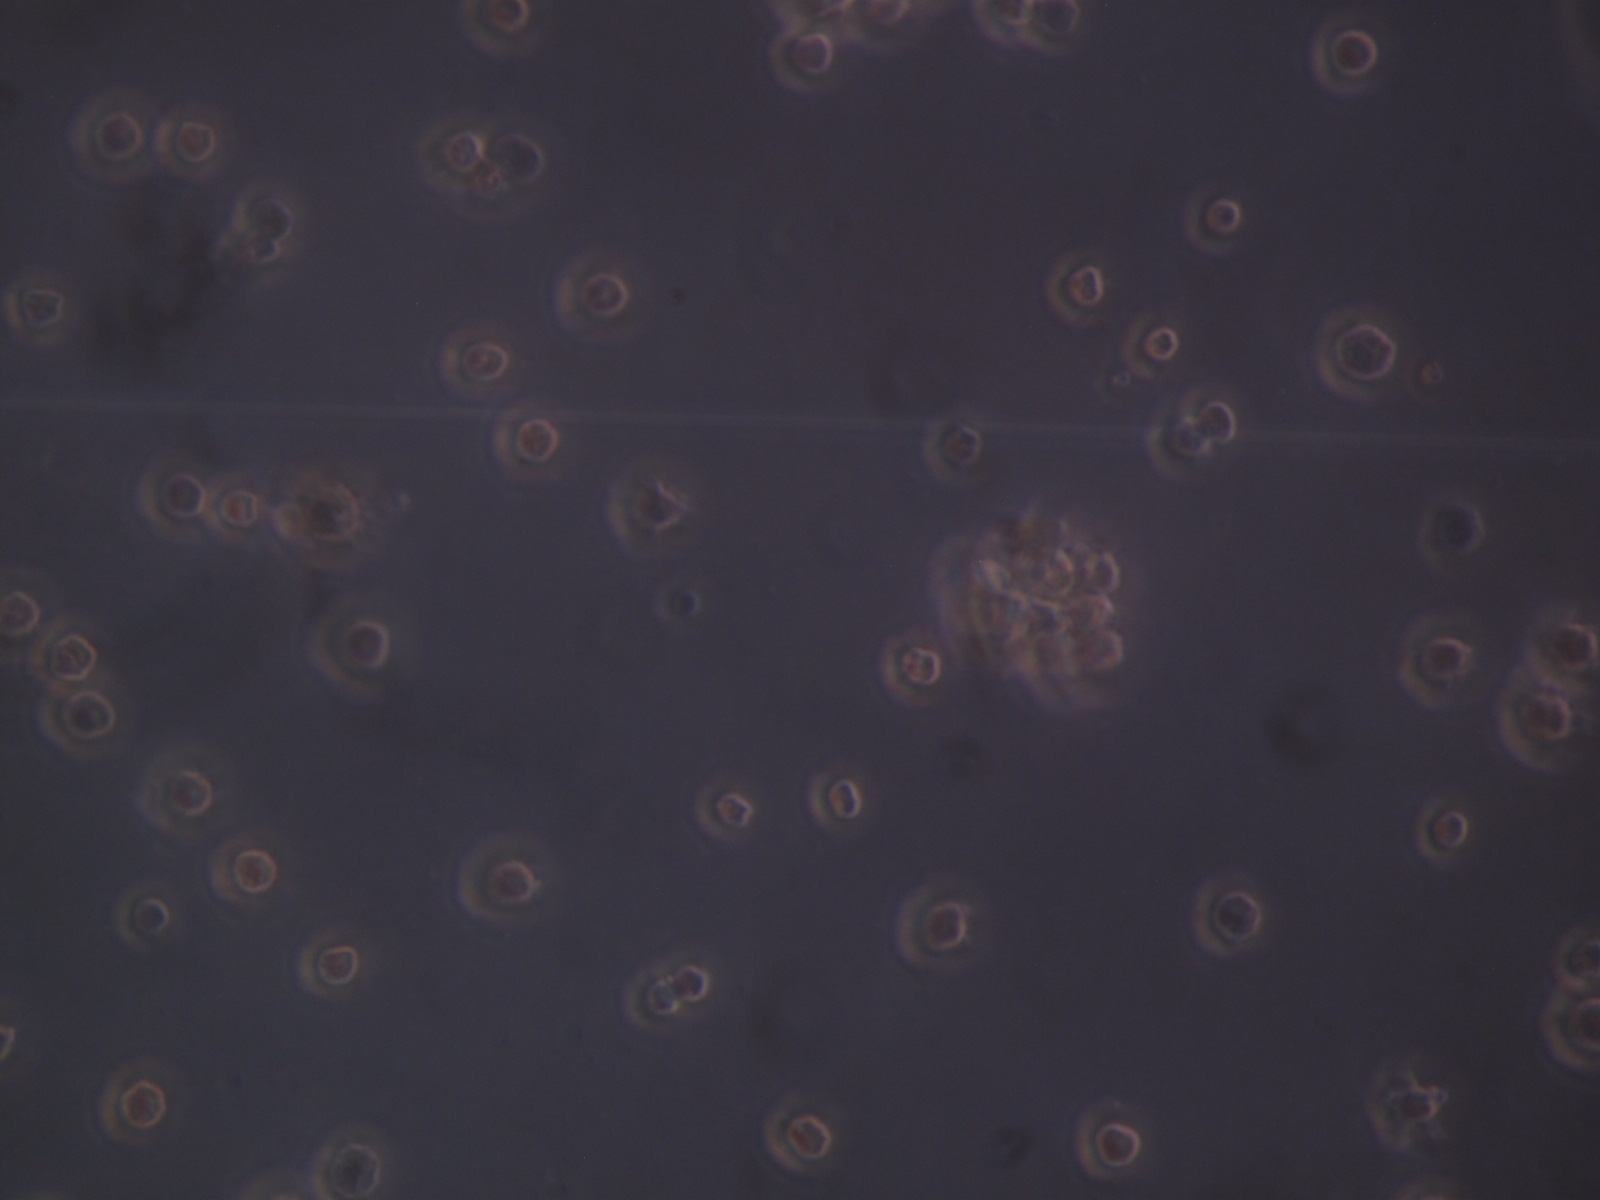hemo: (304, 592, 391, 703), (278, 463, 362, 568), (67, 89, 150, 187), (1499, 671, 1579, 771), (459, 828, 538, 928), (603, 466, 684, 562), (1522, 603, 1600, 698), (1368, 1059, 1453, 1147), (139, 449, 213, 542), (551, 256, 630, 343), (1401, 614, 1471, 711), (1320, 309, 1395, 400), (897, 885, 973, 973), (146, 744, 215, 839), (312, 1121, 396, 1200), (37, 679, 118, 758), (101, 1061, 170, 1147), (28, 620, 101, 701), (152, 102, 231, 176), (1193, 874, 1264, 954), (438, 326, 515, 400), (873, 628, 942, 706), (765, 1093, 831, 1174), (770, 19, 840, 95), (418, 117, 486, 195), (808, 766, 878, 841), (1541, 989, 1600, 1076), (1315, 14, 1377, 97), (1078, 1100, 1143, 1180), (491, 118, 554, 199), (1419, 494, 1487, 568), (493, 405, 561, 479), (203, 471, 265, 553), (6, 270, 68, 348), (208, 837, 278, 905), (1148, 407, 1213, 479), (232, 174, 299, 243), (296, 925, 357, 1000), (926, 408, 981, 487), (1182, 183, 1241, 256), (459, 1, 534, 58), (855, 1, 942, 50), (622, 966, 682, 1036), (1047, 255, 1105, 325), (116, 879, 173, 949), (668, 947, 722, 1017), (695, 775, 753, 841), (1414, 795, 1468, 865), (1126, 313, 1177, 382), (1551, 923, 1600, 992), (1180, 389, 1238, 446), (969, 1, 1036, 48), (1, 580, 42, 649), (1036, 1, 1089, 52), (1078, 629, 1128, 677), (1031, 548, 1076, 597), (1078, 546, 1123, 595)
